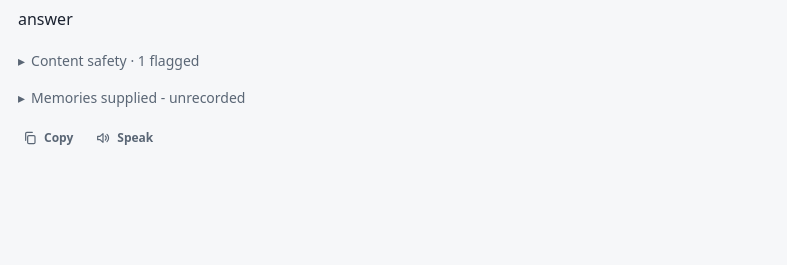
it: MessageList content-safety panel › reports which halves of the exchange were assessed
The image size is (787, 265).
Click the heading "Content safety · 1 flagged": x=115, y=61 [31,51,199,70]
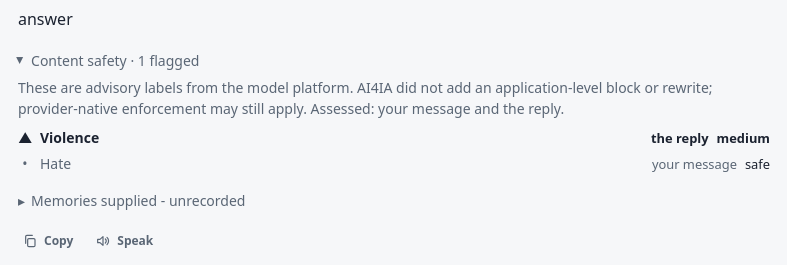
Result: the text "Assessed: your message and the reply." is shown at [307,99,564,118]
